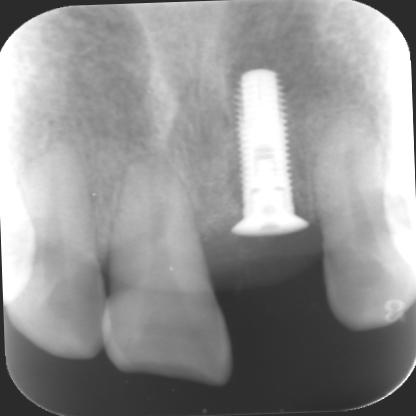Bego: (206, 51, 316, 240)
